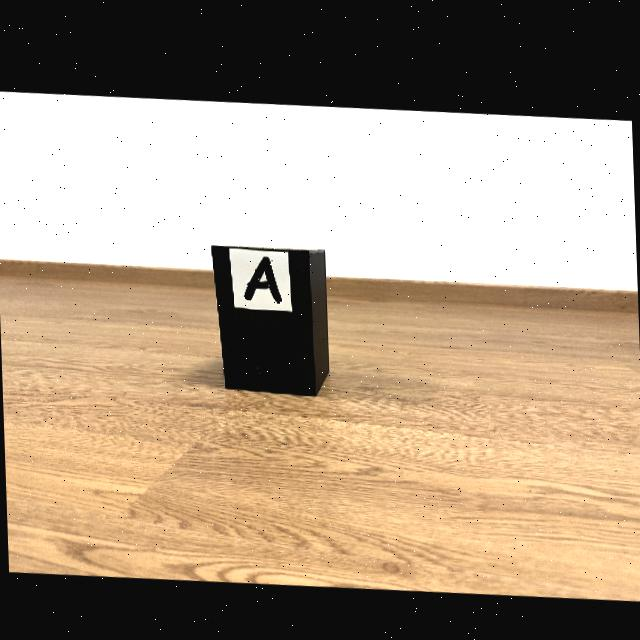A: (244, 252, 281, 297)
